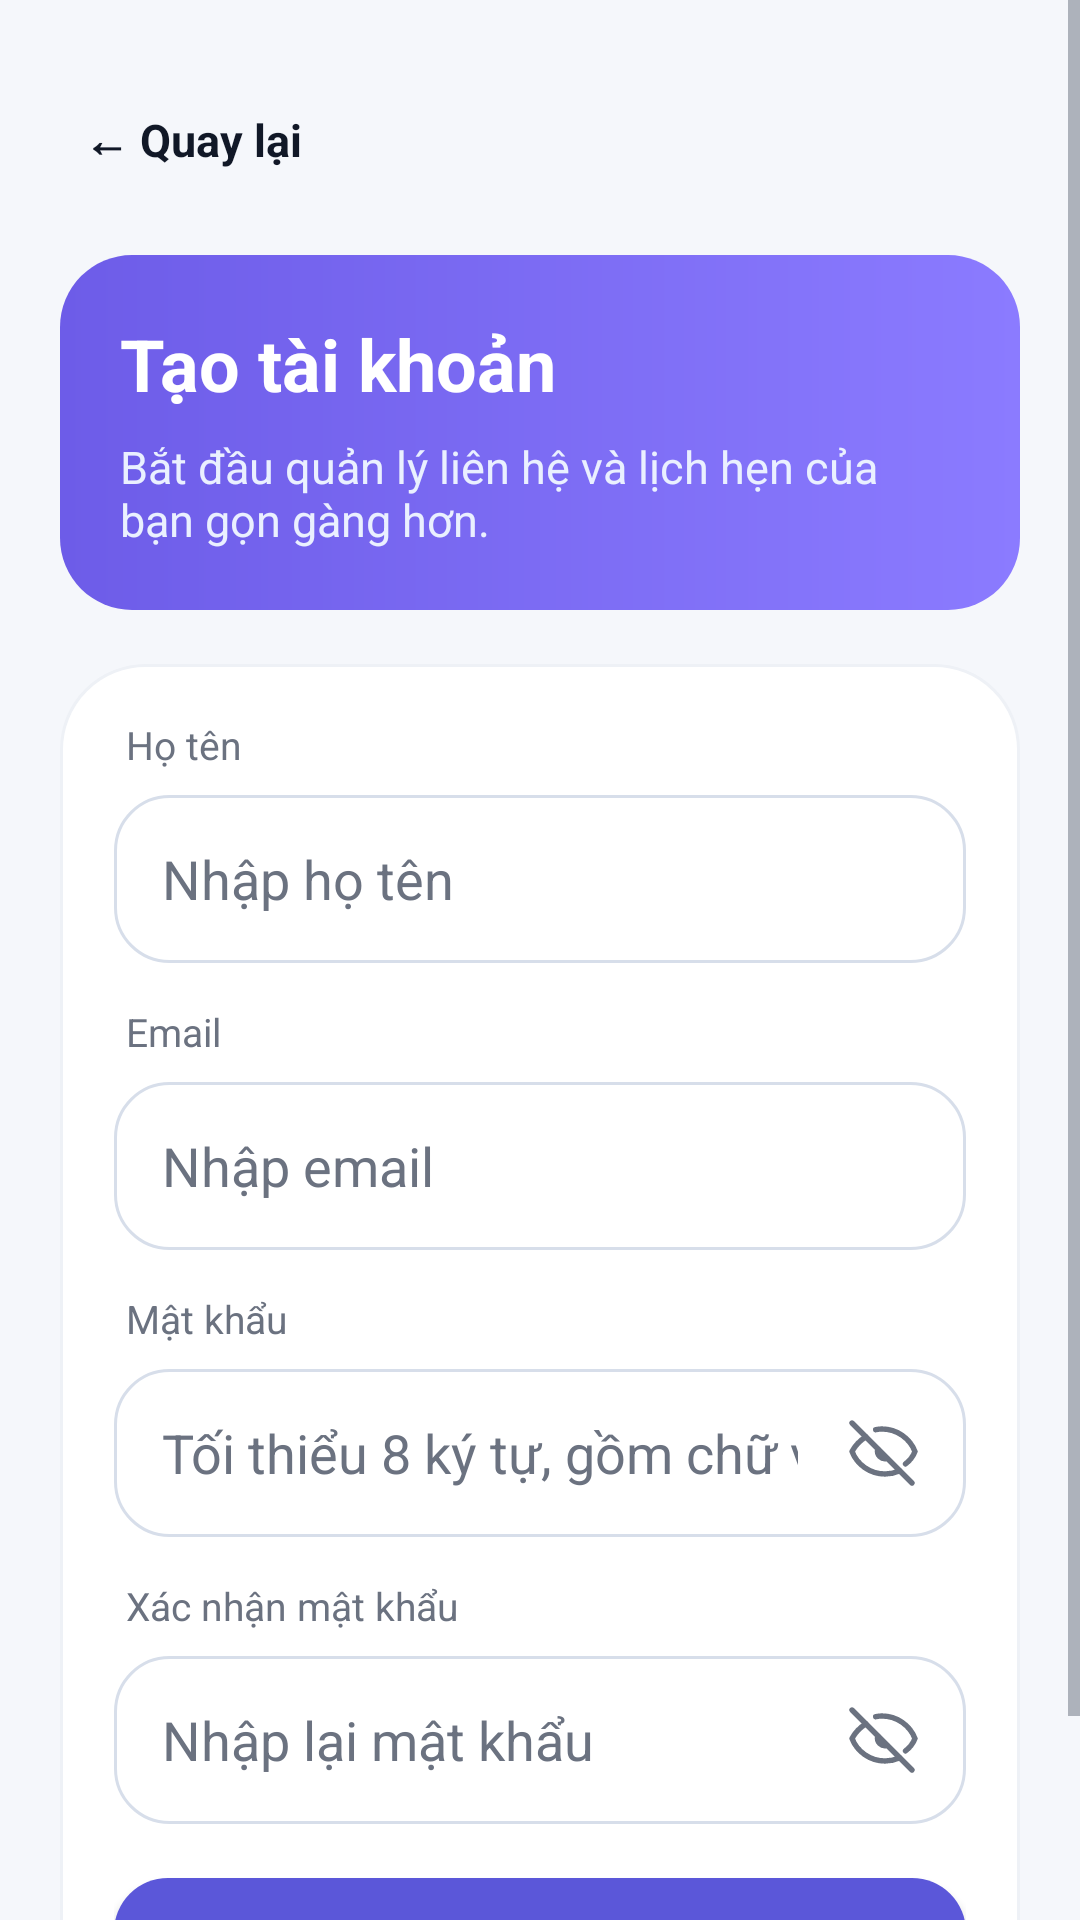

Locate icon controls on the screen. Image size 1080×1920, boxes as (left=x1, top=y1, right=x2, bottom=y2).
Hiện hoặc ẩn mật khẩu: (left=849, top=1420, right=918, bottom=1486)
Hiện hoặc ẩn mật khẩu xác nhận: (left=849, top=1707, right=918, bottom=1773)
